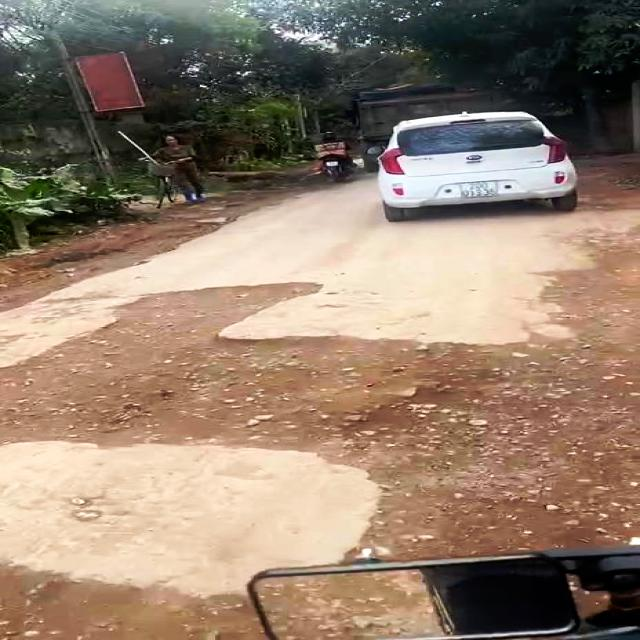pothole: (0, 282, 640, 476), (323, 467, 640, 568), (0, 559, 252, 640), (535, 222, 640, 344)
